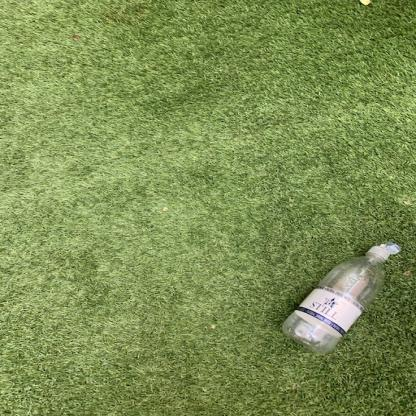trash: (282, 237, 402, 358)
